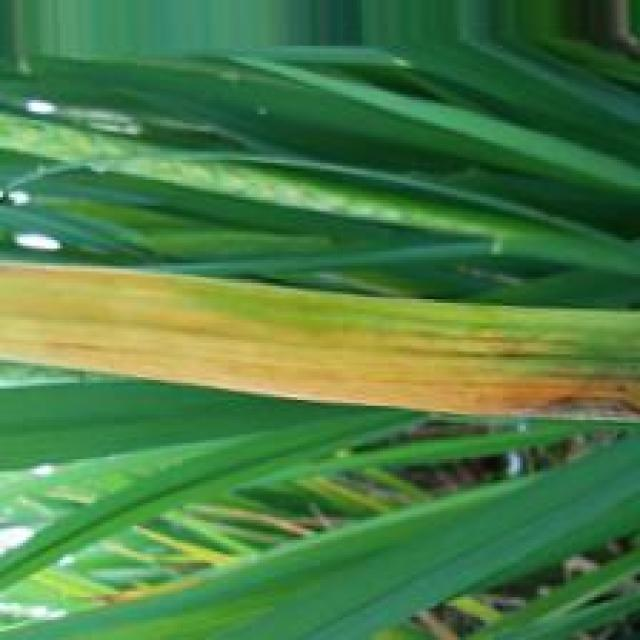Leaf_Blast: (0, 263, 640, 423)
